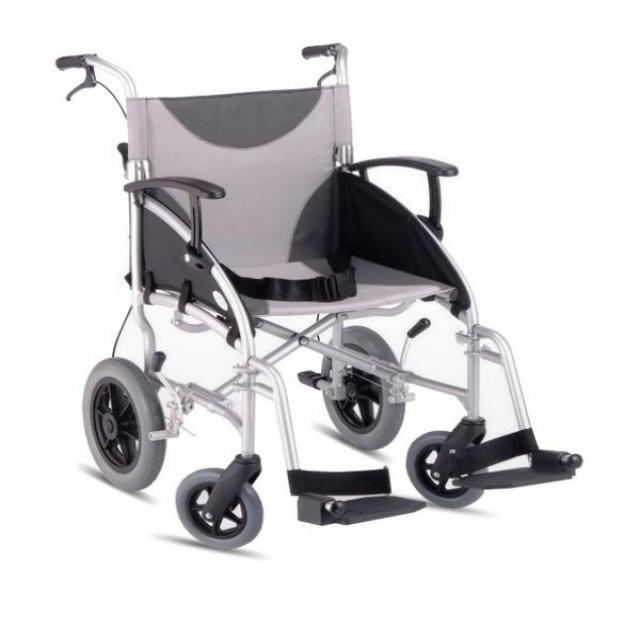wheelchair: (39, 40, 598, 552)
